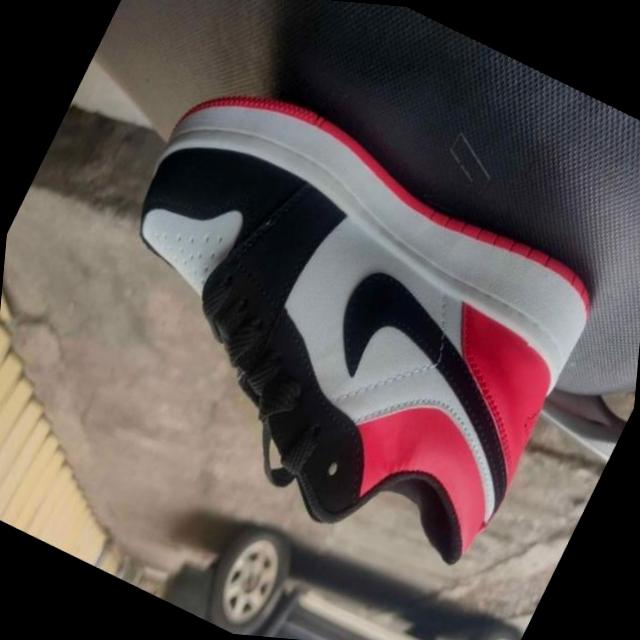nike_fake_jordan: (31, 46, 636, 604)
